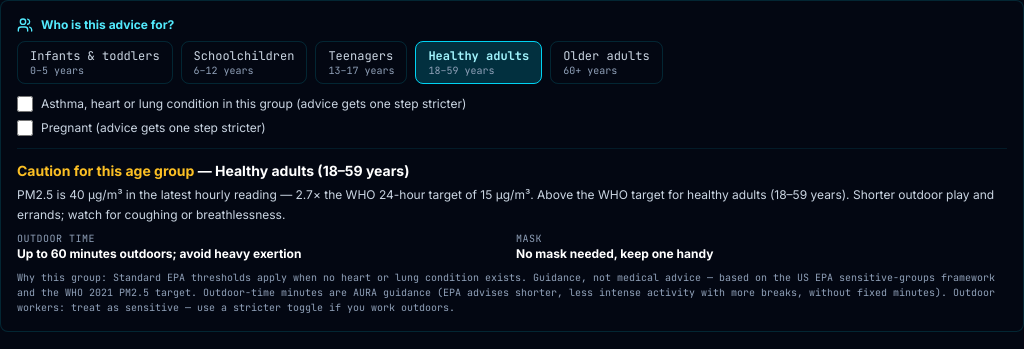
Test: AgeGuidance component › the pregnancy checkbox makes an adult stricter without changing age
Click the checkbox labelled "Pregnant (advice gets one step stricter)" at (25, 128), box [17,120,33,136]
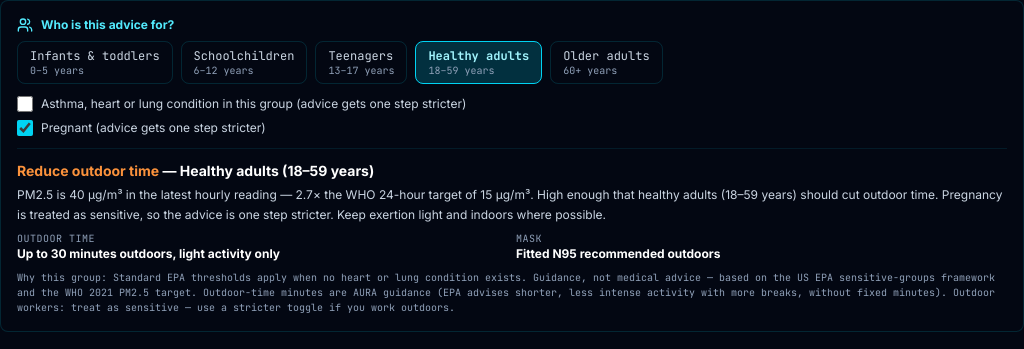
Now the text "Reduce outdoor time" is shown, box [17,162,159,179]
